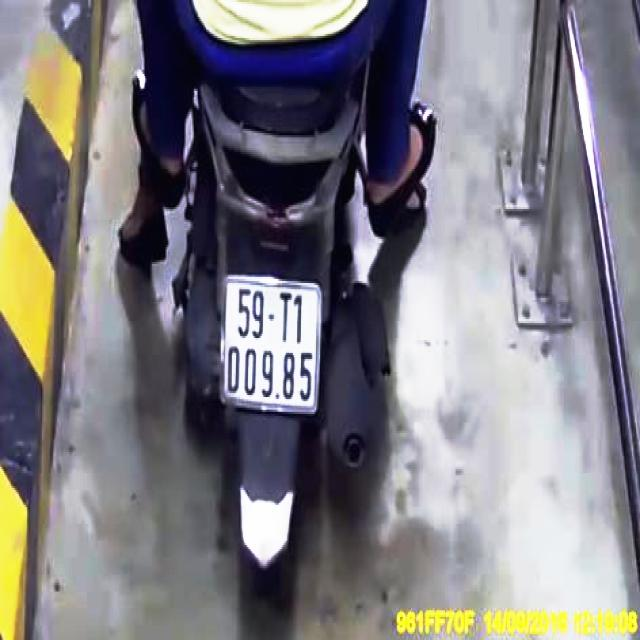license_plate: (225, 280, 320, 410)
